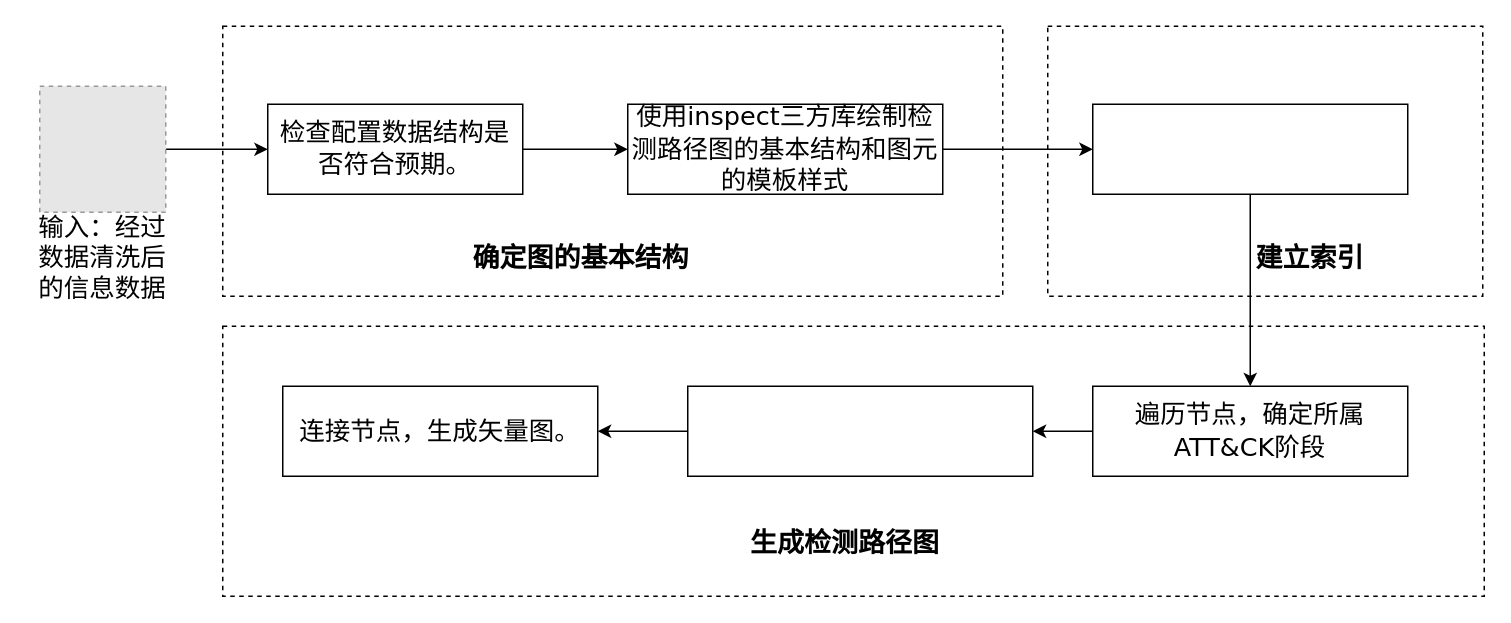
The diagram is 1511 pixels wide and 623 high, and some of its shapes have lost their labels. Grey dashed boxes stand in for pictures. The box of each missing label's shape, as (x1, y1, x2, y2) in pixels:
创建三个 dict 字典，为不同的属性建立对应关系。: (1091, 103, 1408, 194)
确认横纵坐标，记录节点位置: (686, 385, 1033, 476)
